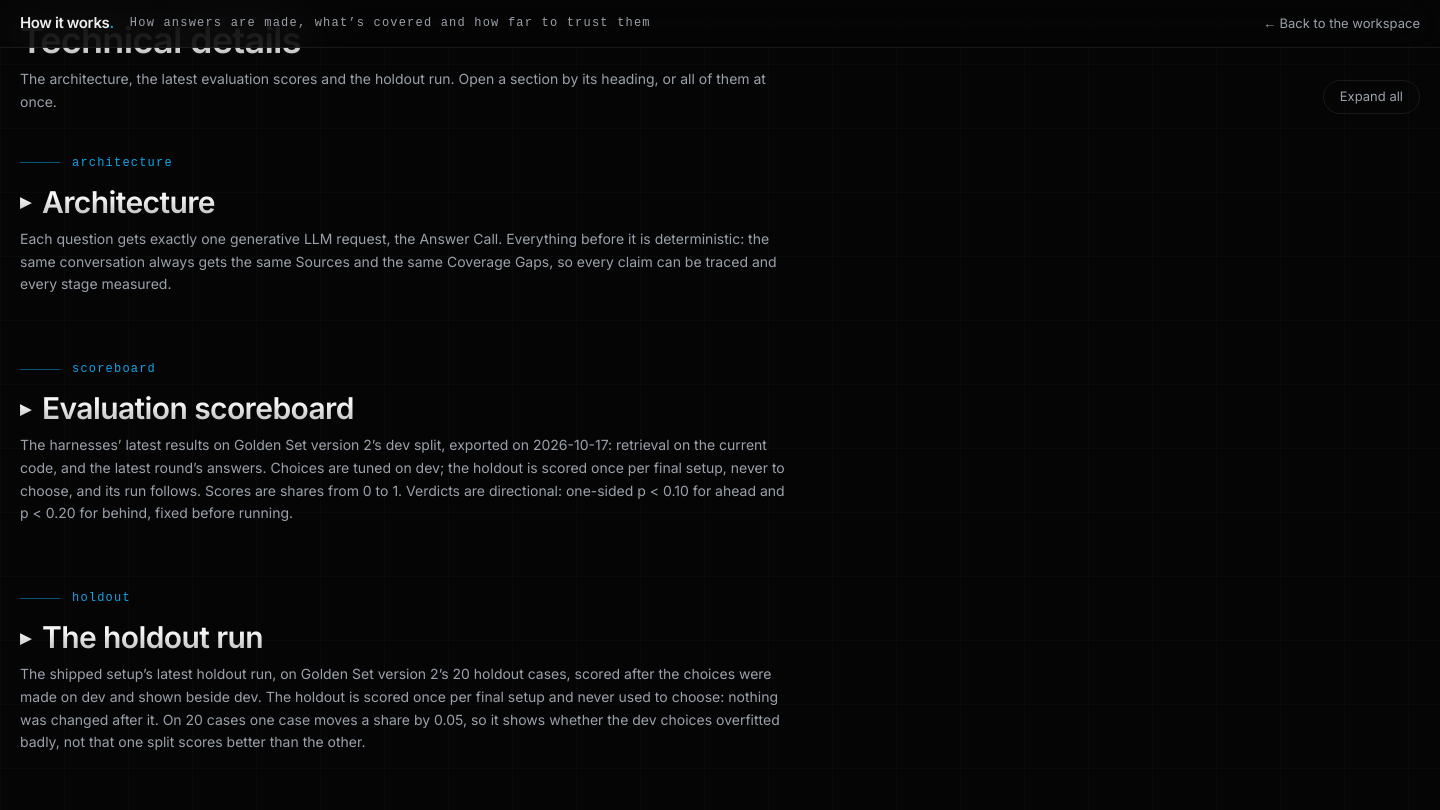
Scenario: the "How it works" page › shows the latest holdout run beside dev, with its small-sample caveat
(page scrolled)
Click the button "▸ The holdout run" at (142, 637), box [20,619,263,655]
(page scrolled)
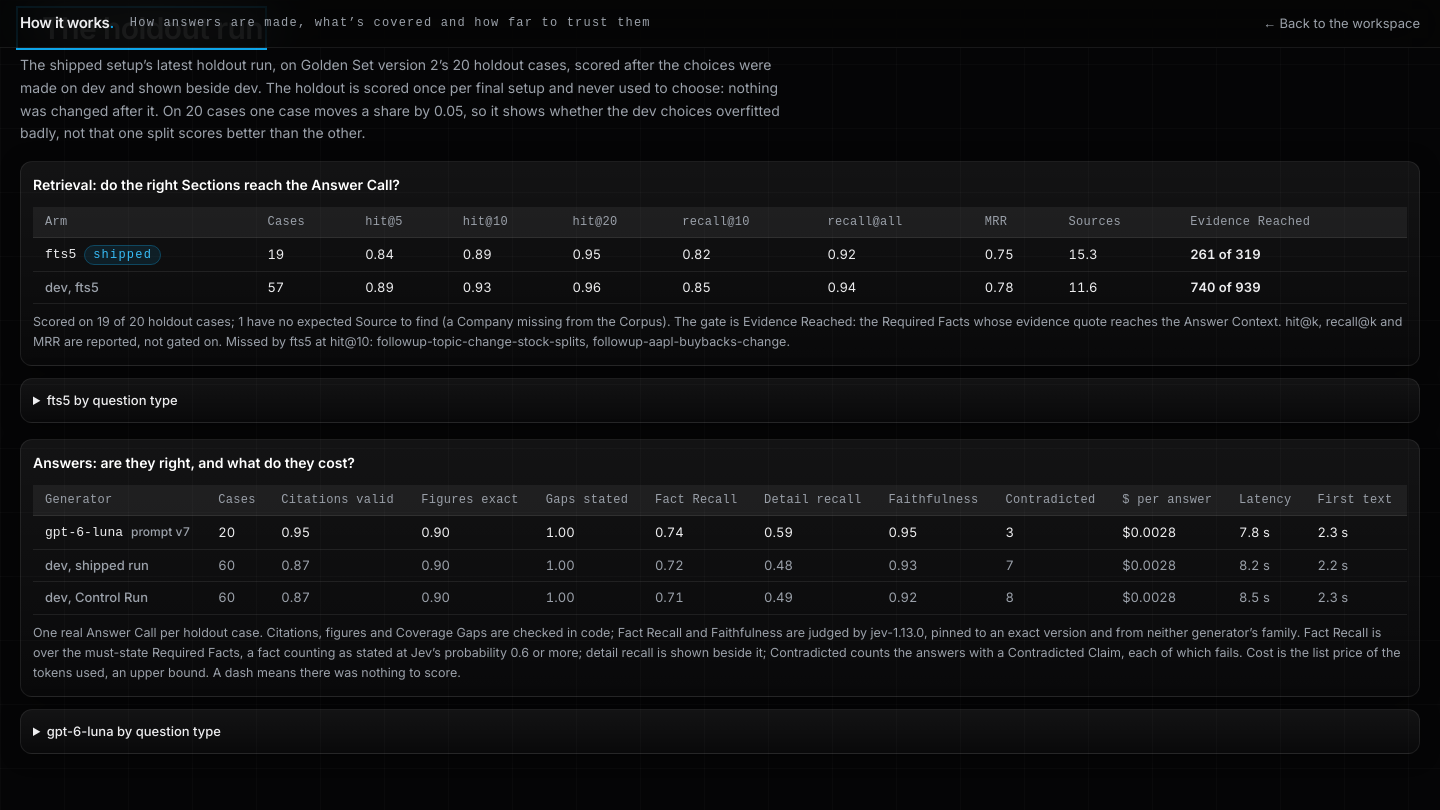
Expected: the row "fts5shipped 19 0.84 0.89 0.95 0.82 0.92 0.75 15.3 261 of 319" is shown, [33,238,1407,271]
Expected: the row "dev, fts5 57 0.89 0.93 0.96 0.85 0.94 0.78 11.6 740 of 939" is shown, [33,271,1407,304]
Expected: the number of rows "gpt-6-luna" is 1, [33,516,1407,549]
